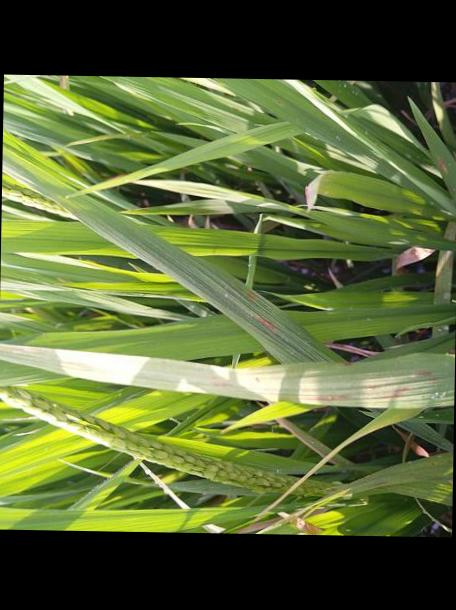Leaf Streak: (0, 345, 268, 397), (278, 509, 323, 534), (375, 383, 416, 396), (312, 390, 355, 402), (258, 315, 277, 328), (244, 288, 258, 300), (417, 369, 431, 375)
